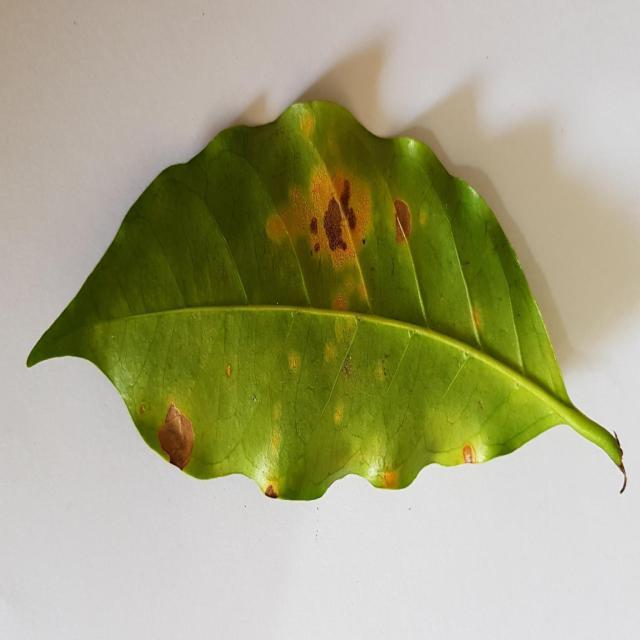Plaga-Minador: (25, 100, 625, 504)
